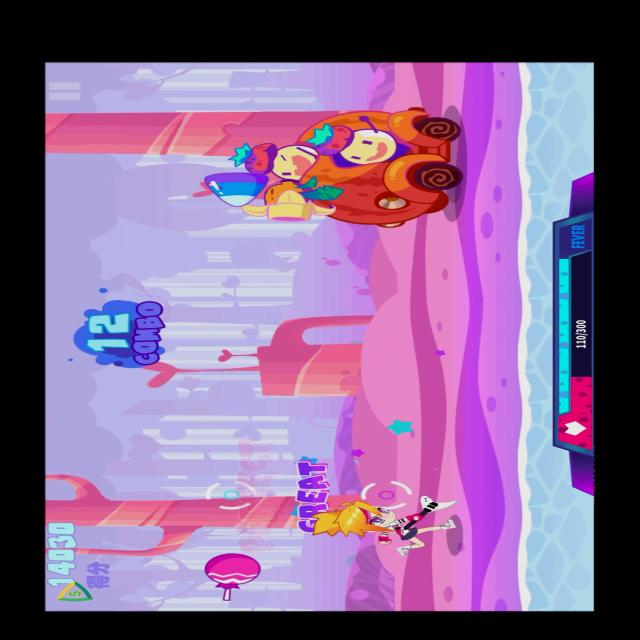cheboss: (221, 102, 478, 234)
jian: (203, 171, 270, 207)
tang: (200, 546, 264, 603)
